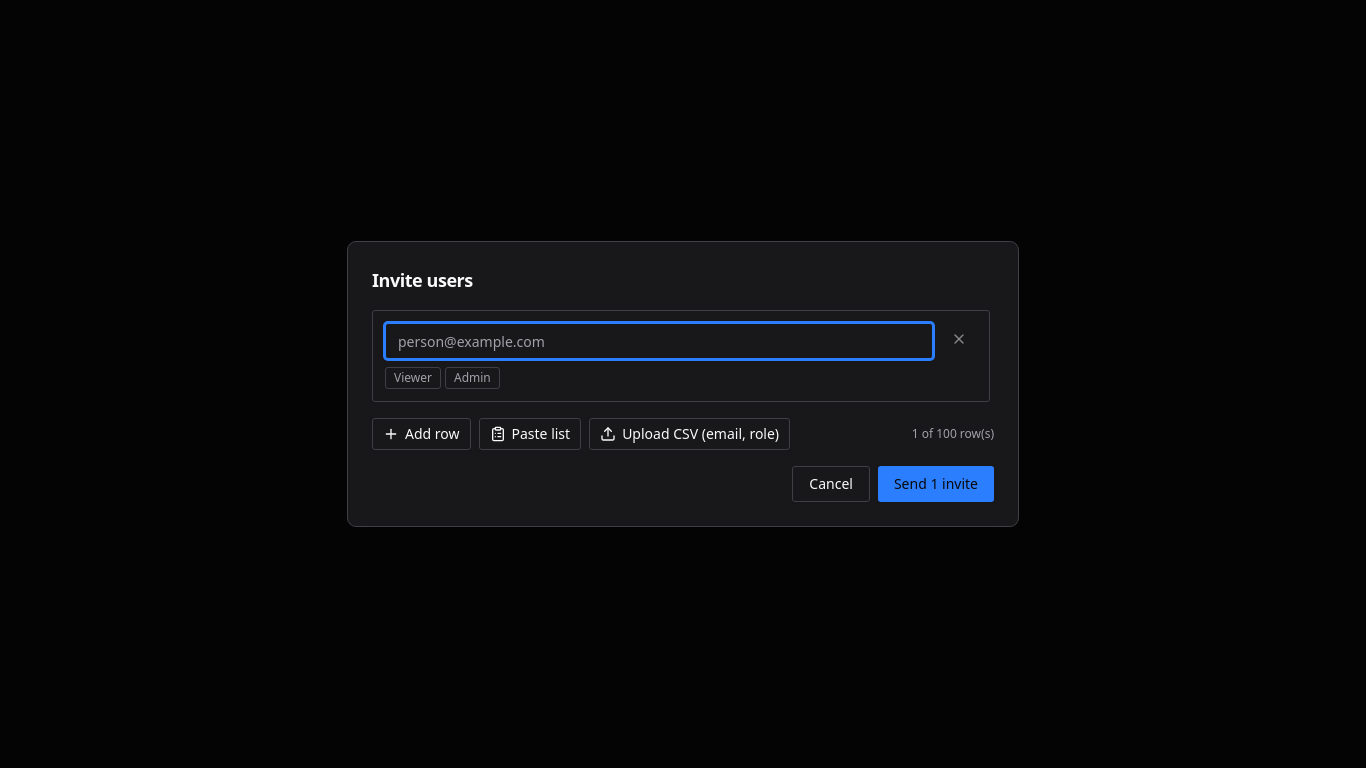
Test: InviteDialog — submit › shows the summary after success and the failed row by its email and detail
Type "alice@example.com" into the field named "Invitee 1 email".
click(659, 341); type("alice@example.com")  # box x1=385 y1=323 x2=933 y2=359
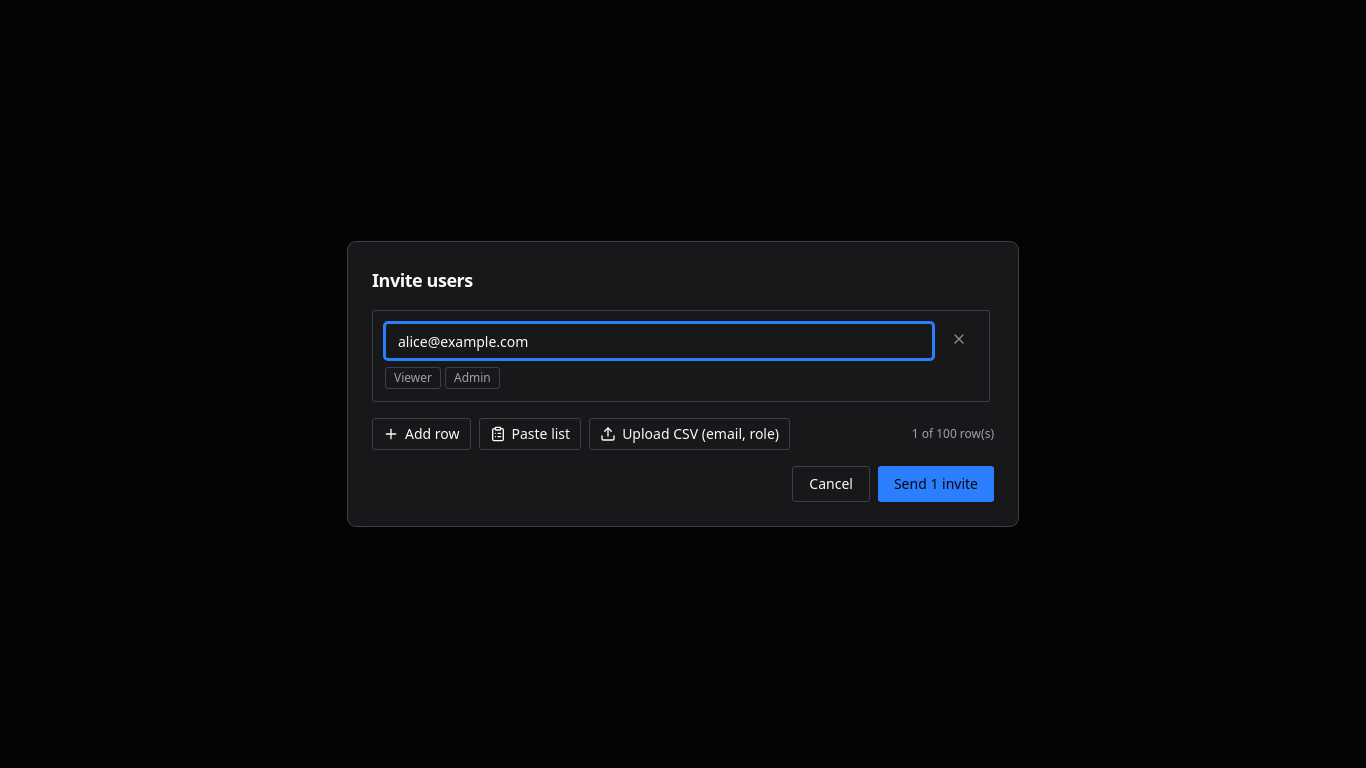
Click the button "Viewer".
click(413, 378)  # box x1=385 y1=367 x2=441 y2=389
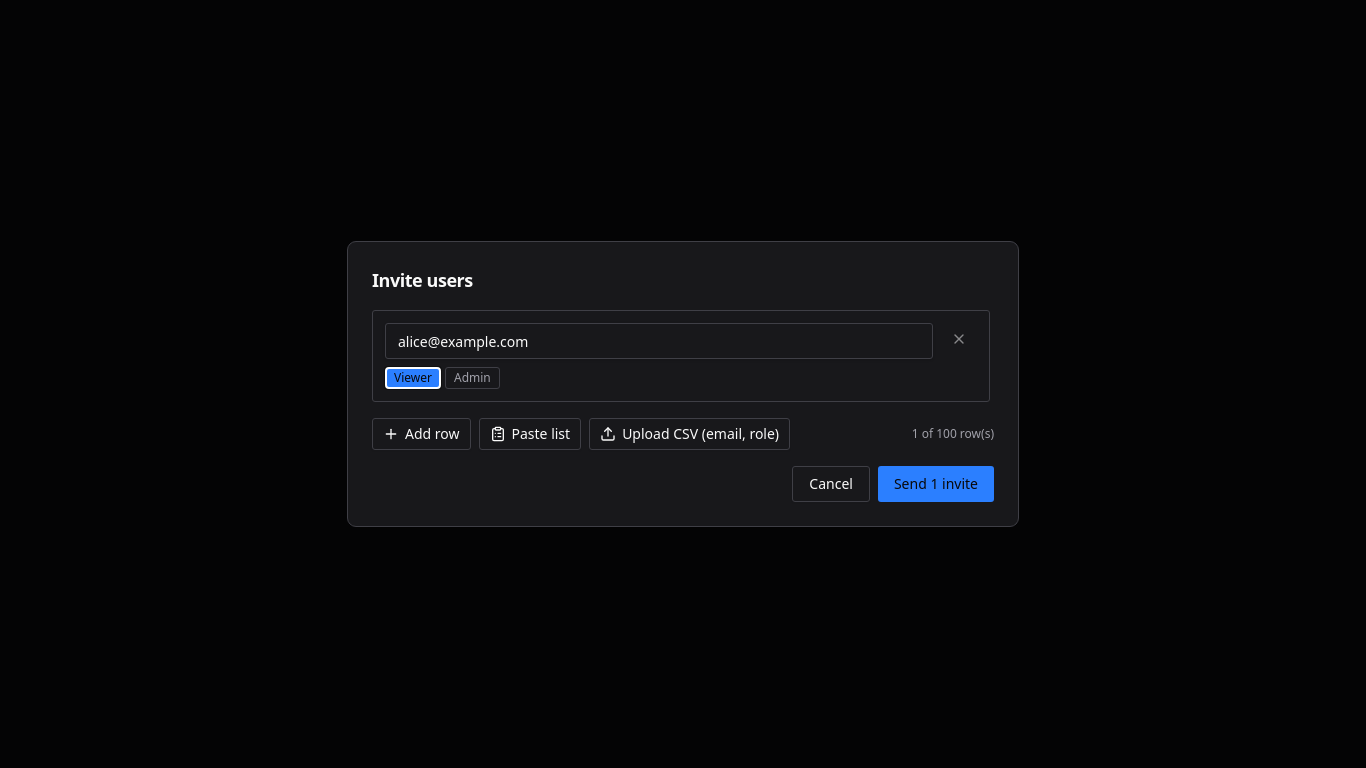
Click the button "Add row".
click(421, 434)  # box x1=372 y1=418 x2=470 y2=450
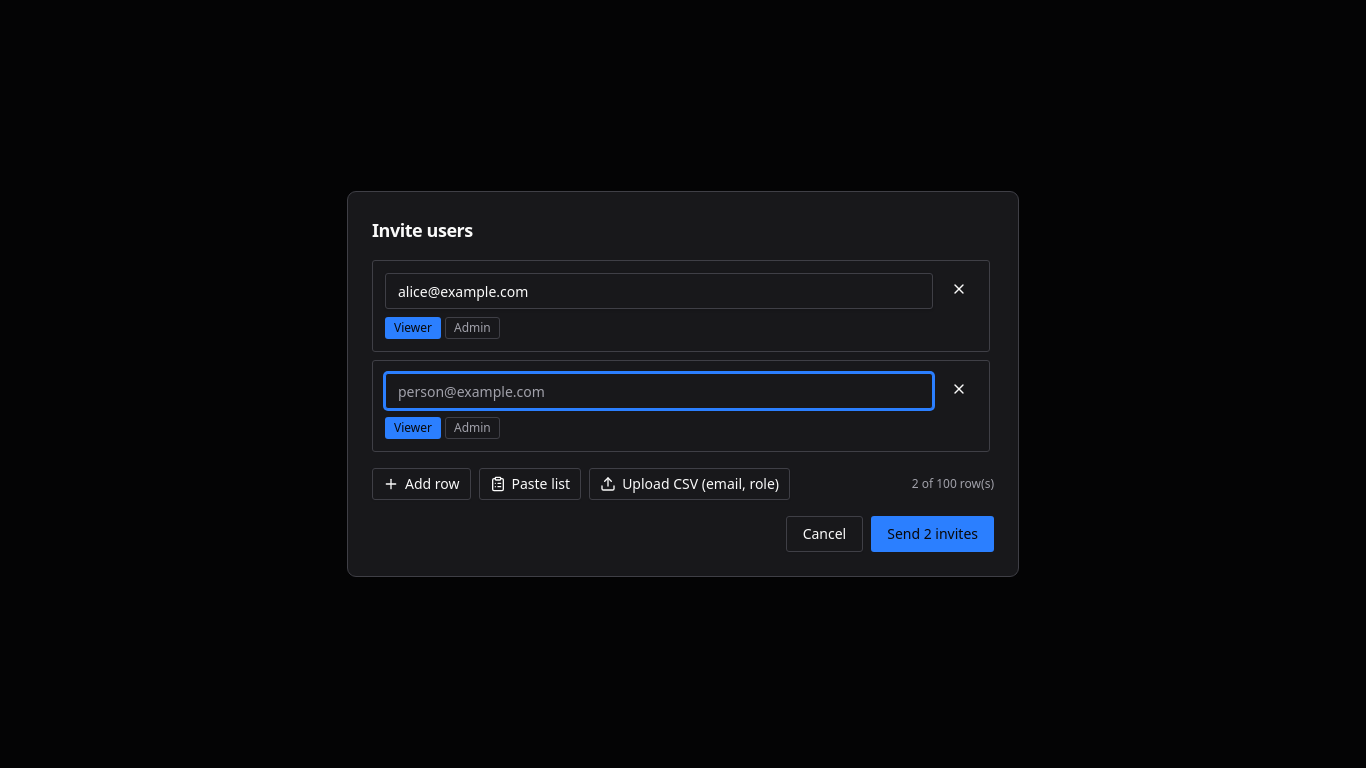
Type "bob@example.com" into the field named "Invitee 2 email".
click(659, 391); type("bob@example.com")  # box x1=385 y1=373 x2=933 y2=409
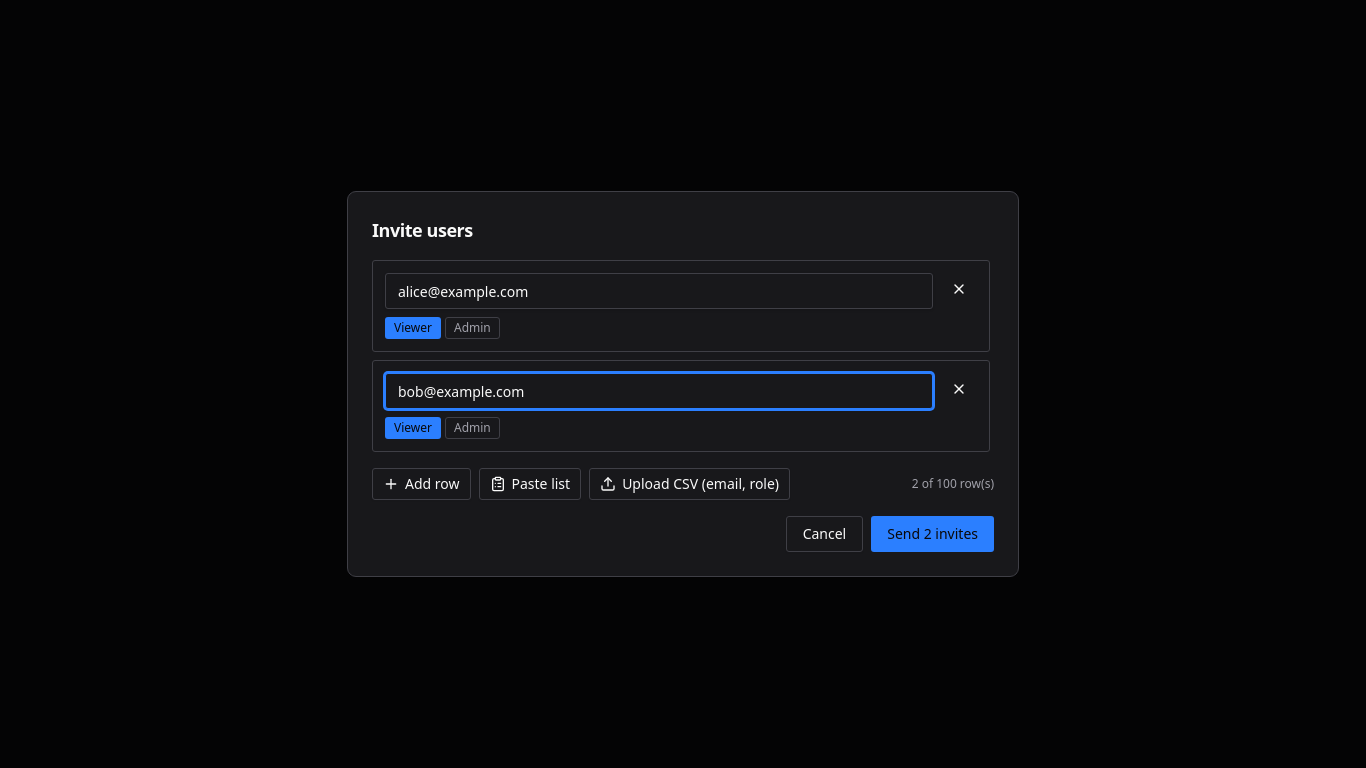
Click the button "Send 2 invites".
click(933, 534)  # box x1=871 y1=516 x2=994 y2=552
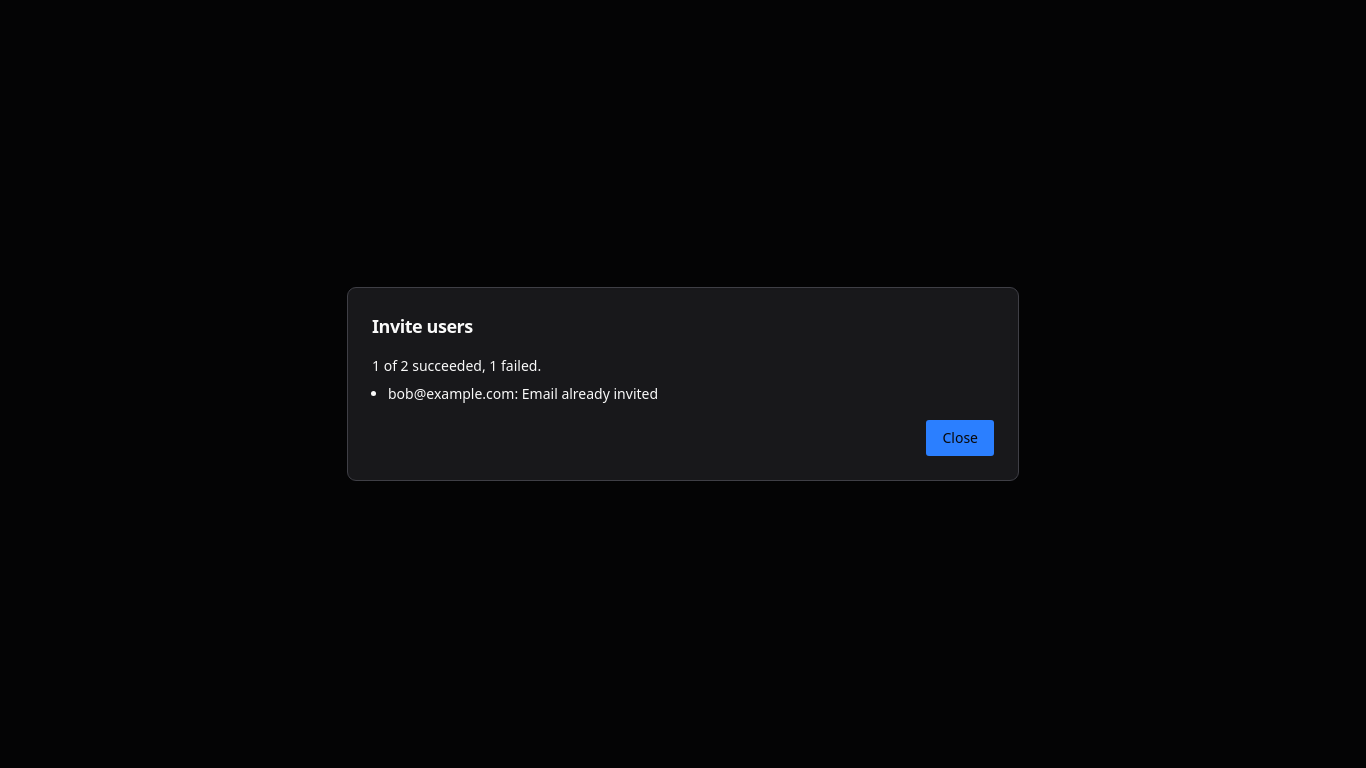
Expected: the list item does not show "Conflict", x1=388 y1=384 x2=658 y2=403
Expected: the text "1 of 2 succeeded, 1 failed." is shown, x1=372 y1=356 x2=541 y2=375
Expected: the list item reads "bob@example.com: Email already invited", x1=388 y1=384 x2=658 y2=403
